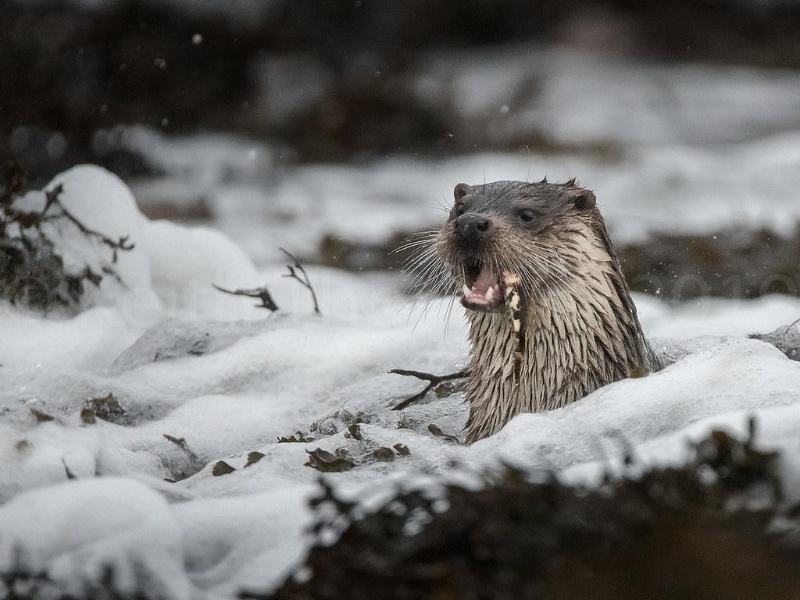minkish: (430, 178, 666, 463)
